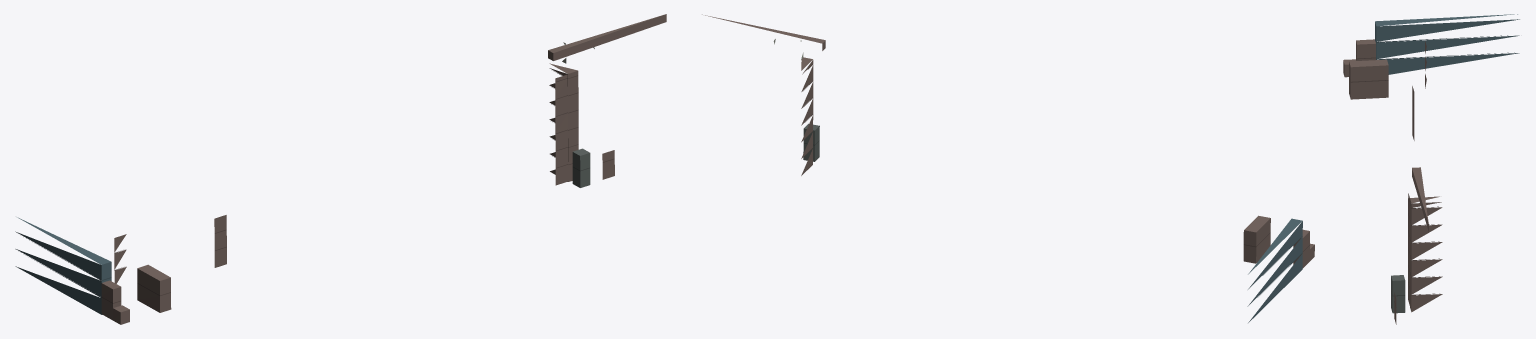
Rendered from terminal-29---119_-16.glb.
3 renders of one model, left to right at view 1: azimuth 30°, elevation 25°; view 2: azimuth 150°, elevation 25°; view 3: azimuth 270°, elevation 25°, orthographic. The views are drawn at different scales.
Parts seen in each view (by area): view 1: measured-industrial; view 2: measured-industrial; view 3: measured-industrial.
Boxes of the visible parts, x1,y1,x2,y2 form: measured-industrial: (15, 14, 666, 324); measured-industrial: (702, 14, 1314, 322); measured-industrial: (1343, 14, 1519, 324).
Bounding box in the file's own units: 111 × 23.9 × 28.04.
